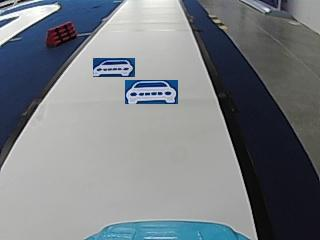bomb: (46, 20, 76, 46)
